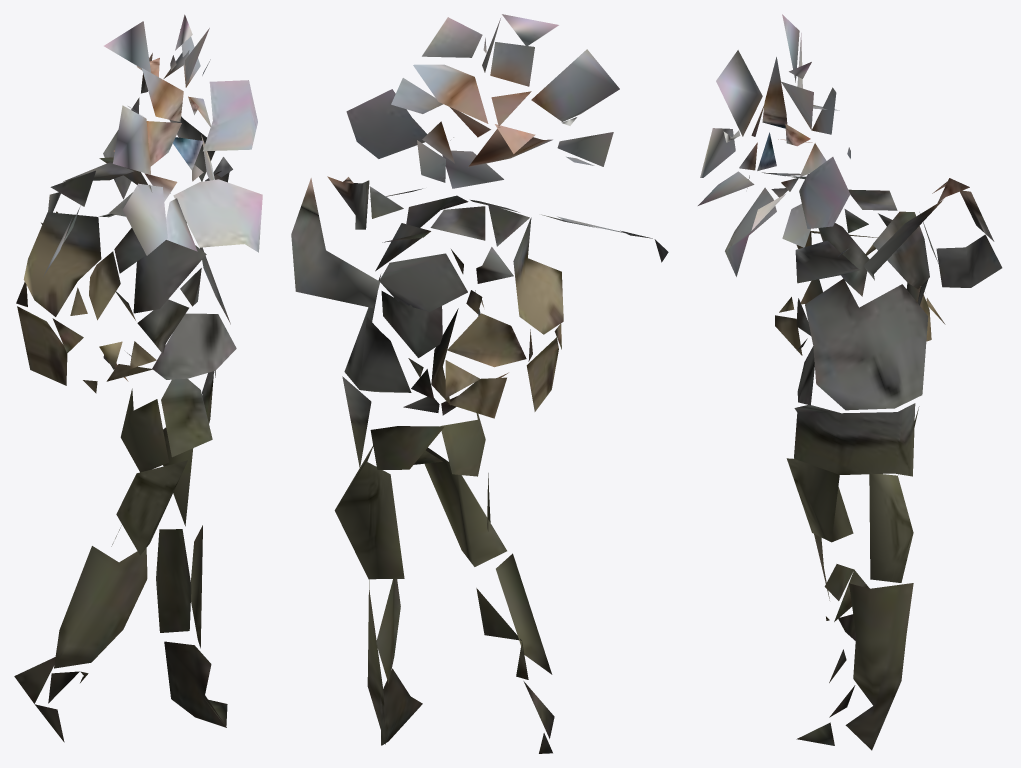
File: crowd_golfer_lite.glb
3 renders of one model, left to right at view 1: azimuth 30°, elevation 25°; view 2: azimuth 150°, elevation 25°; view 3: azimuth 270°, elevation 25°, orthographic. The views are drawn at different scales.
Parts seen in each view (by area): view 1: tripo_node_33ec3091-d645-4af4-82c2-31afd24b9fee; view 2: tripo_node_33ec3091-d645-4af4-82c2-31afd24b9fee; view 3: tripo_node_33ec3091-d645-4af4-82c2-31afd24b9fee.
Part boxes in pixels (x1=…): tripo_node_33ec3091-d645-4af4-82c2-31afd24b9fee: x1=14, y1=14, x2=262, y2=742; tripo_node_33ec3091-d645-4af4-82c2-31afd24b9fee: x1=291, y1=14, x2=668, y2=753; tripo_node_33ec3091-d645-4af4-82c2-31afd24b9fee: x1=698, y1=14, x2=1002, y2=750.
Bounding box in the file's own units: 0.7148 × 1.82 × 0.7447.
1 material, 1 textured.
